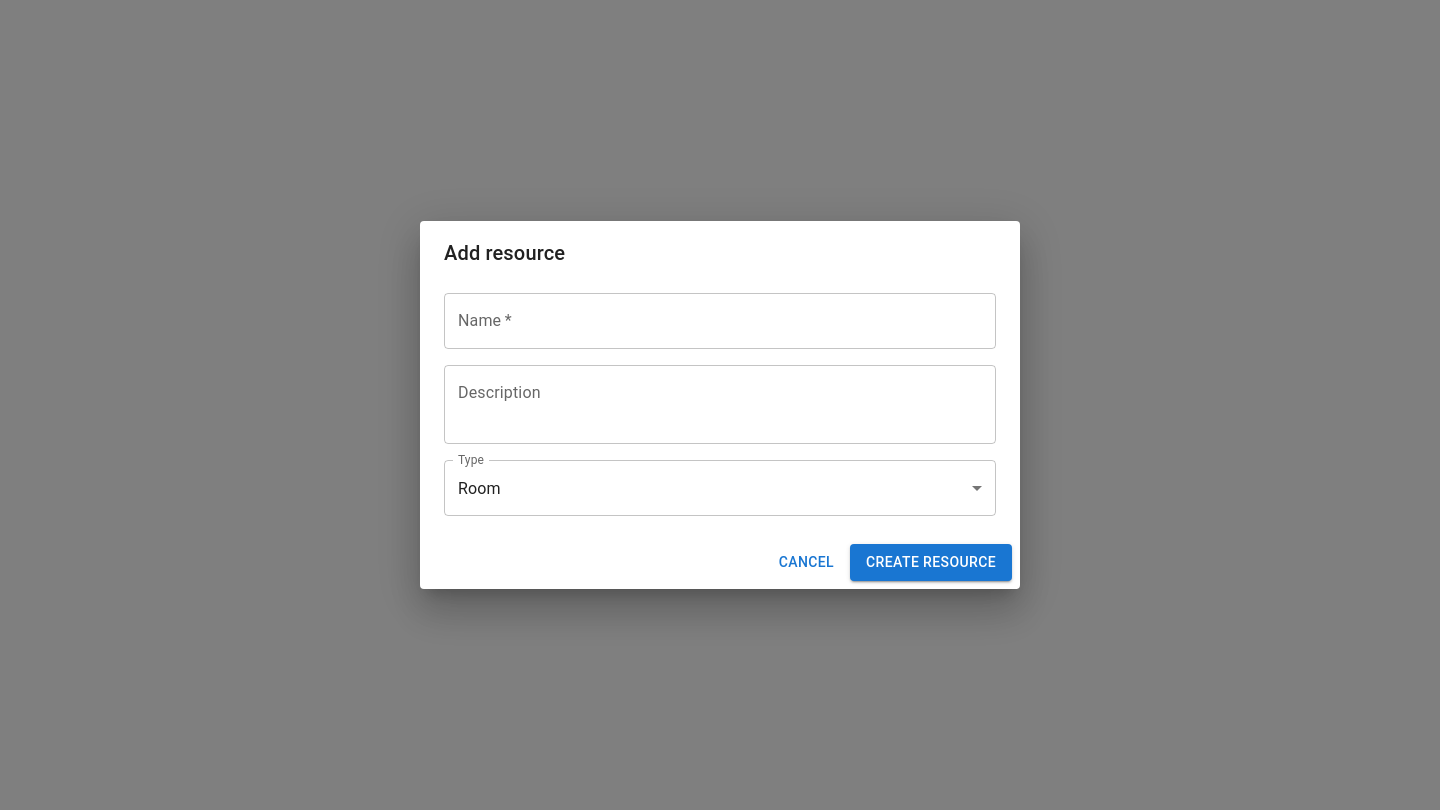
ResourceFormDialog › shows API error on save failure
The width and height of the screenshot is (1440, 810).
Type "Room" into the field labelled "Name *".
click(720, 321); type("Room")  # box 444,293 -> 996,349
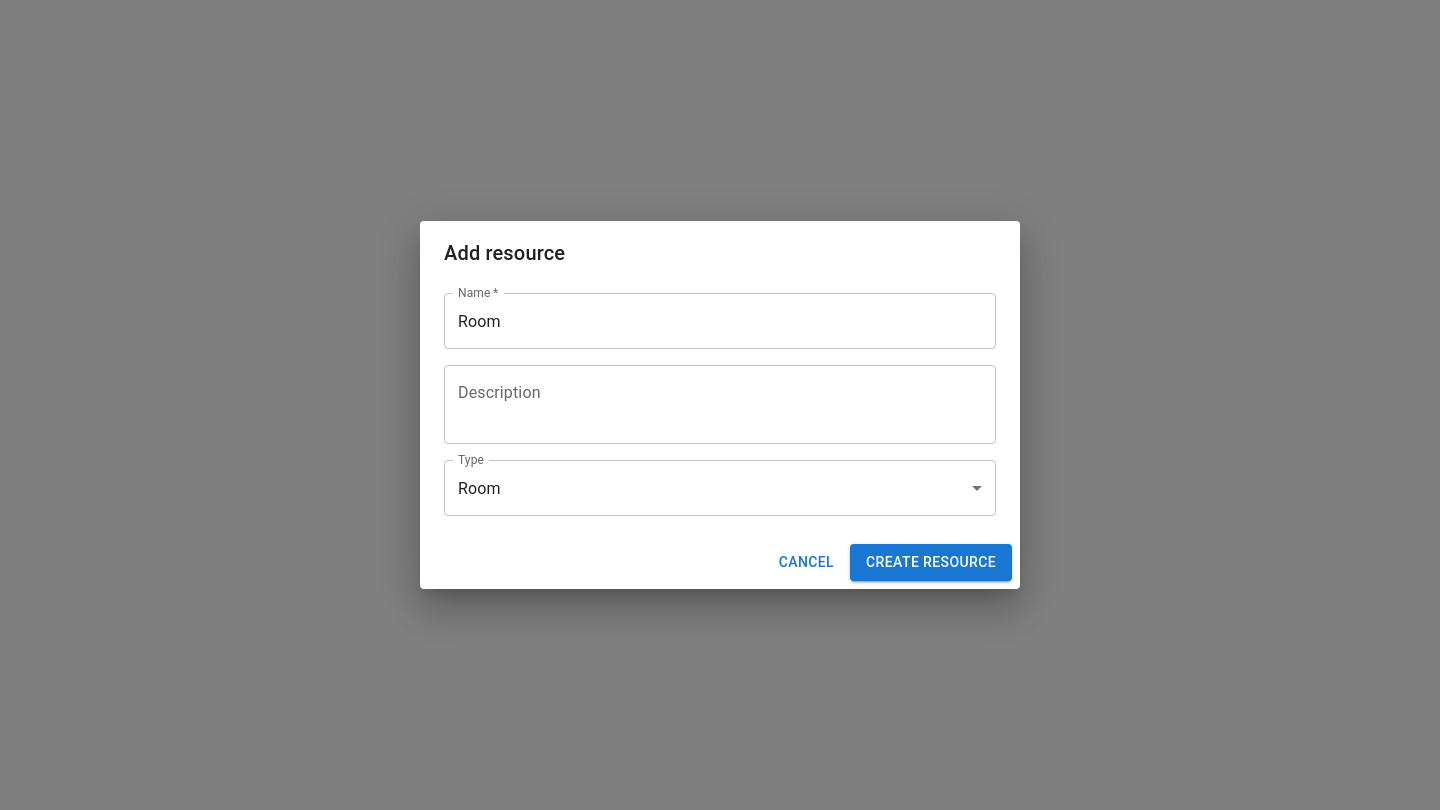
Click the button "Create resource".
click(931, 563)  # box 850,544 -> 1012,581
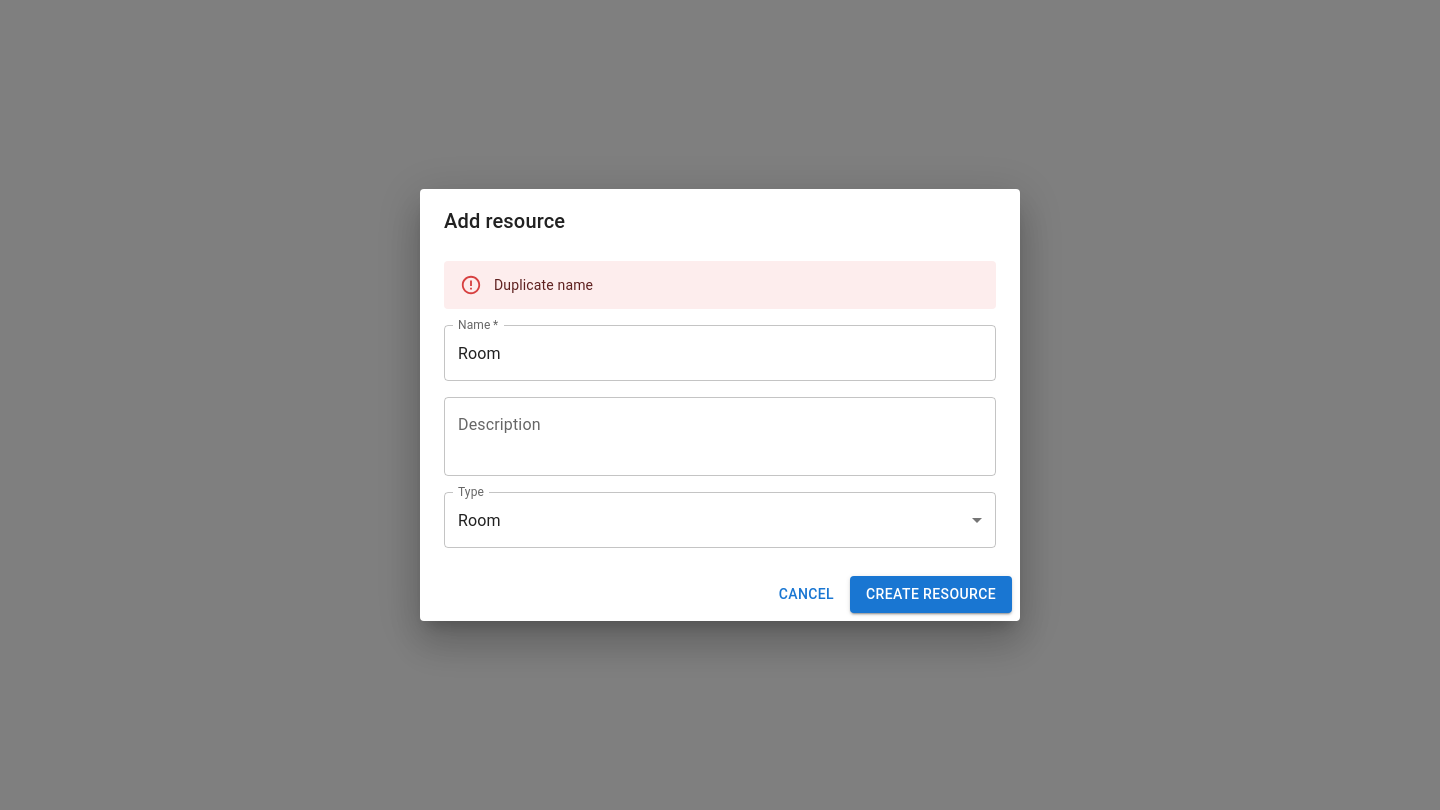
Expected: the text "Duplicate name" is shown, 494,277 -> 593,293
